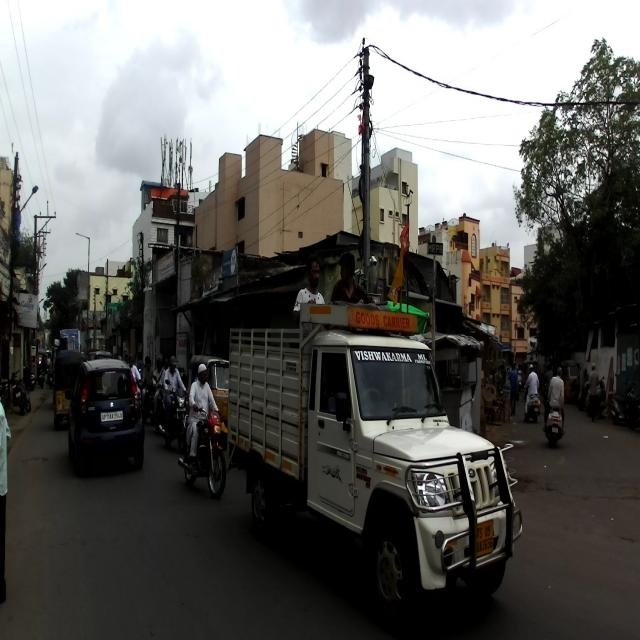car: (64, 357, 144, 472)
motorcycle: (175, 405, 228, 500), (156, 378, 190, 450)
truck: (226, 301, 524, 636)
